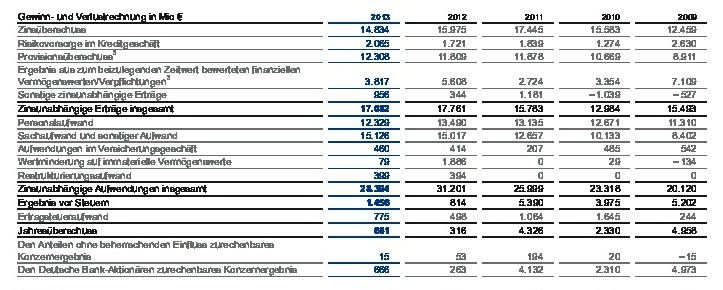table: (0, 0, 723, 290)
